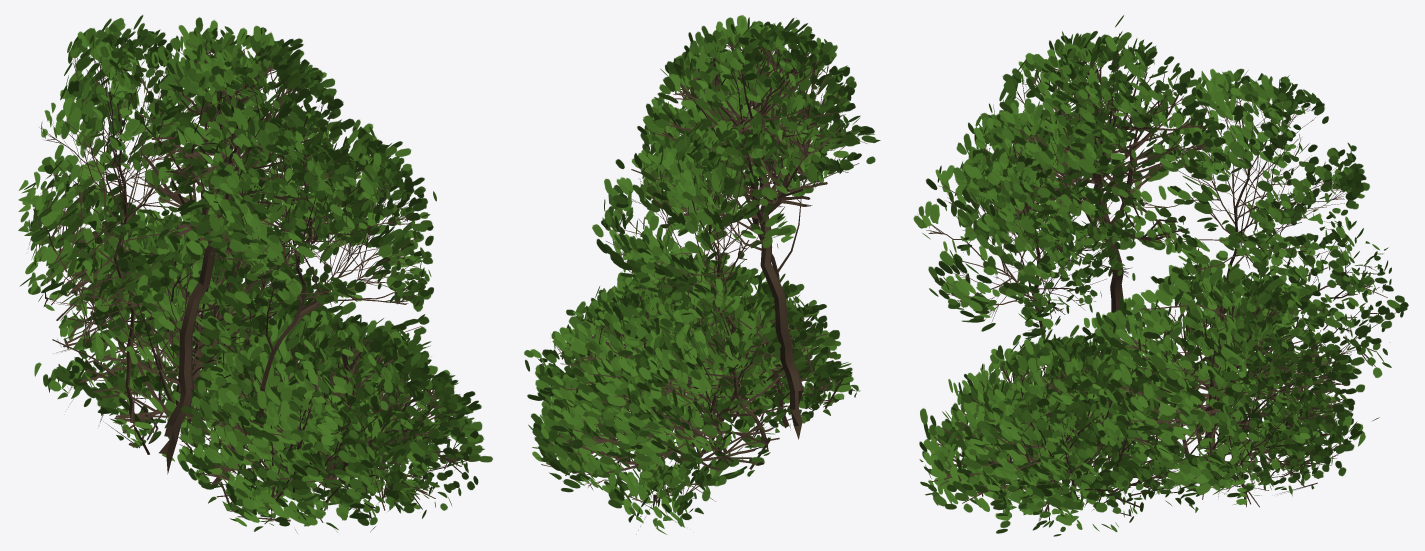
The picture shows the model from 3 angles, left to right: view 1: azimuth 30°, elevation 25°; view 2: azimuth 150°, elevation 25°; view 3: azimuth 270°, elevation 25°; orthographic projection. The views are drawn at different scales.
Visible parts, largest first — view 1: oak 01.001_trunk_Mat.001_0.278; view 2: oak 01.001_trunk_Mat.001_0.278; view 3: oak 01.001_trunk_Mat.001_0.278.
Part boxes in pixels (<box>): oak 01.001_trunk_Mat.001_0.278: <box>18,15,492,533</box>; oak 01.001_trunk_Mat.001_0.278: <box>524,15,880,534</box>; oak 01.001_trunk_Mat.001_0.278: <box>913,15,1408,536</box>.
Size of the model in its own units: 2.69 by 4.05 by 4.24.
2 materials, 1 textured.
